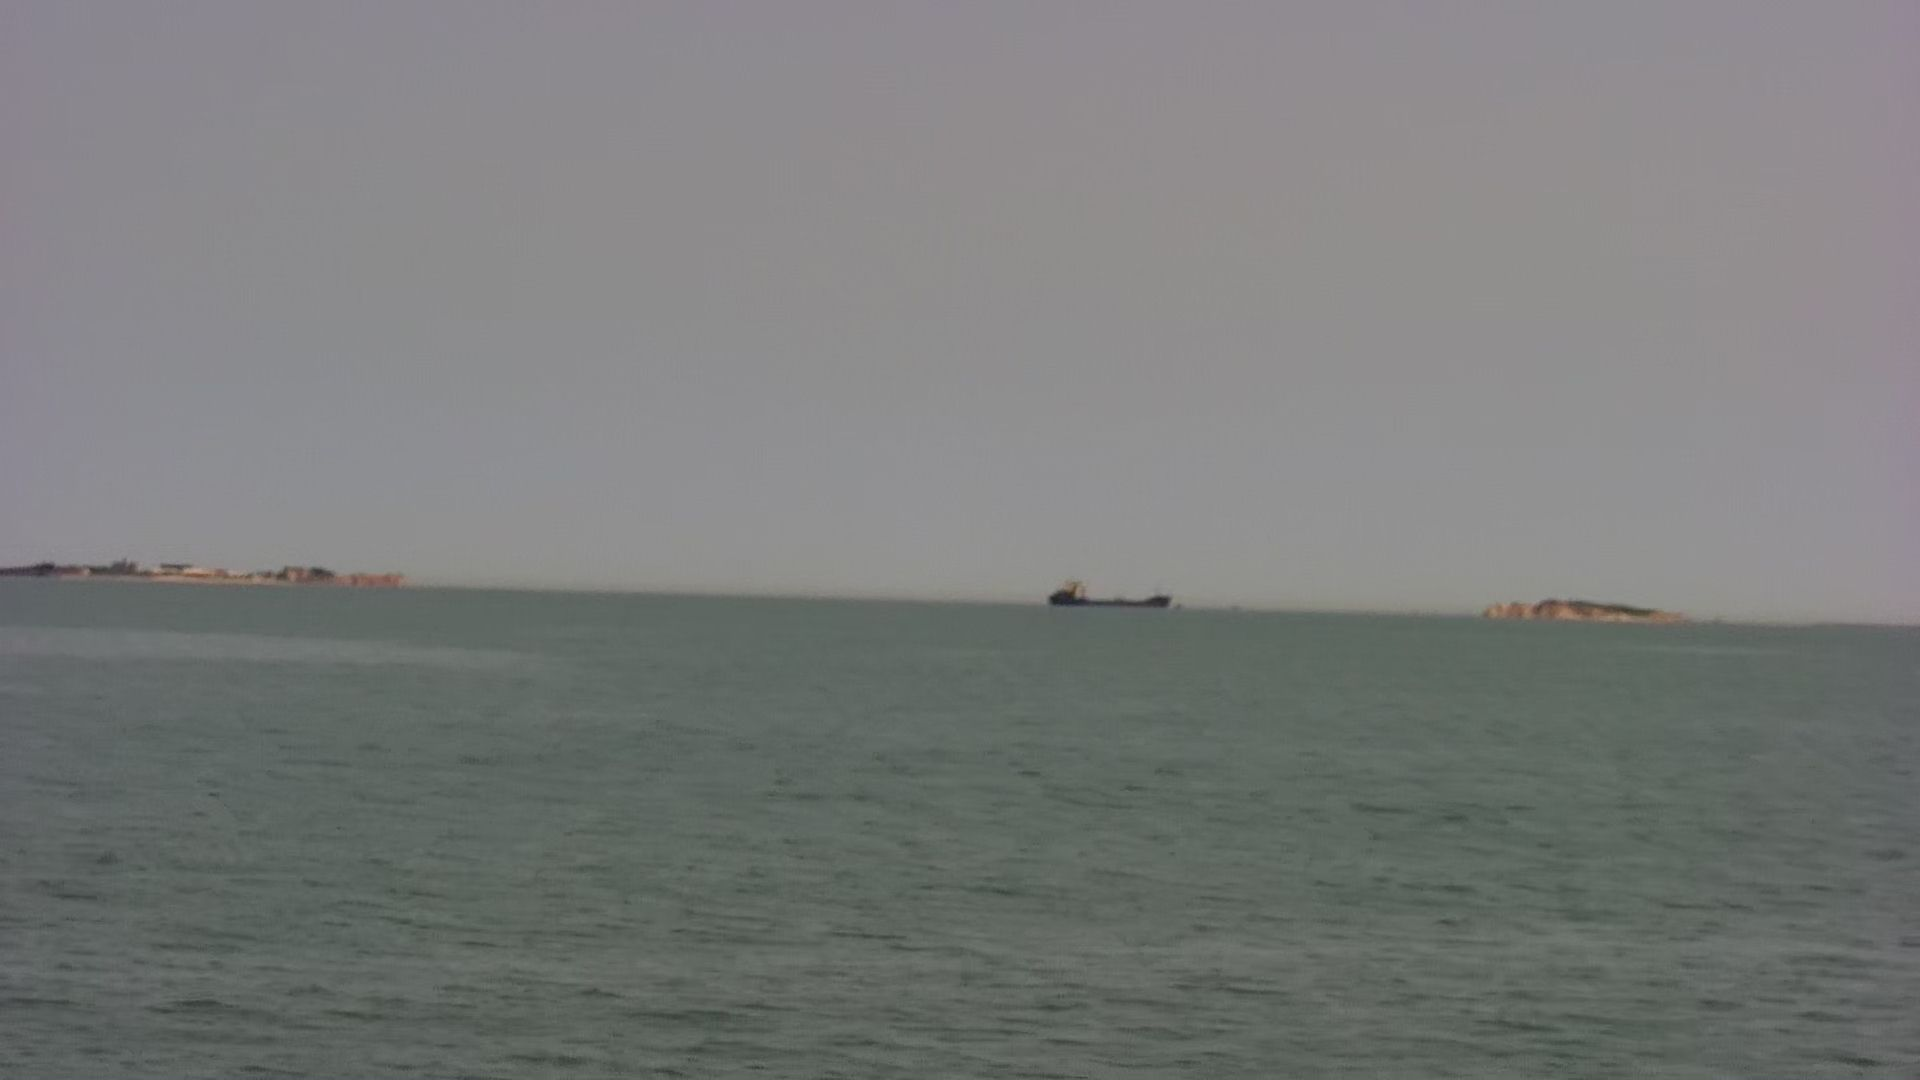rock: (1, 556, 414, 589), (1472, 591, 1697, 630)
ship: (1044, 578, 1175, 611)
